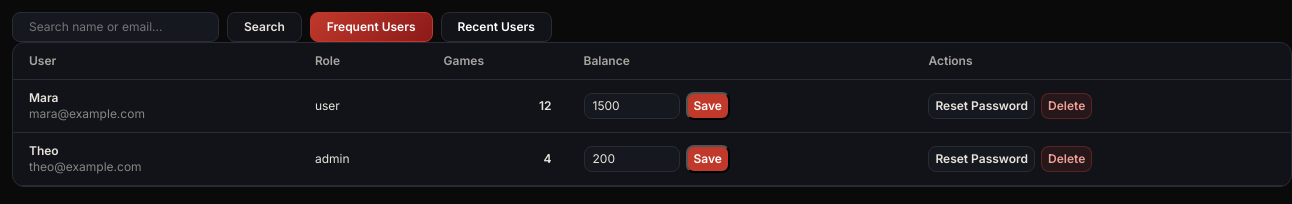
Test: AdminUserManagement › requires confirmation before deleting and removes only the selected user
Expected: the text "Mara" is shown, [29,90,58,105]
Click the button "Delete" in the row of "mara@example.com".
click(1067, 106)  # box [1041,93,1092,119]
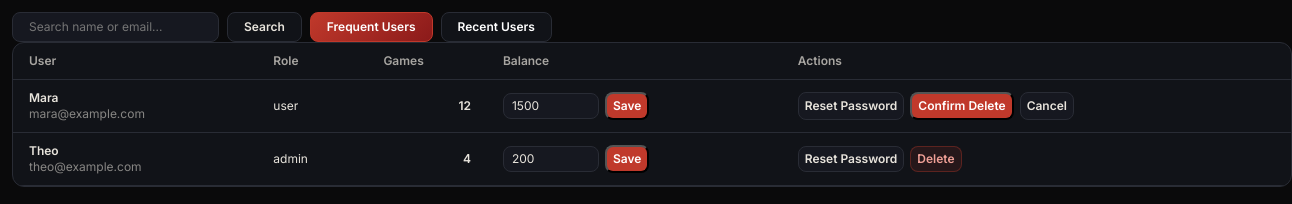
Now the button "Confirm Delete" is shown
Click the button "Confirm Delete".
click(962, 106)  # box [910,92,1014,120]
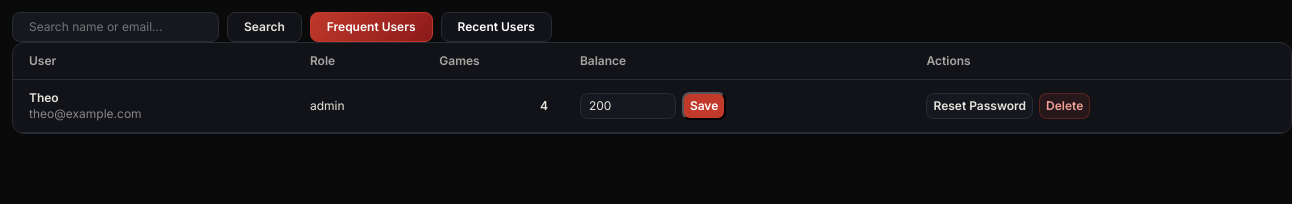
Expected: the text "Theo" is shown, [29,90,59,105]
Now the text "Mara" is gone
